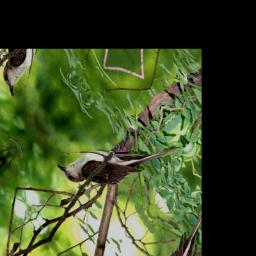Cuckoo: (57, 88, 181, 226)
